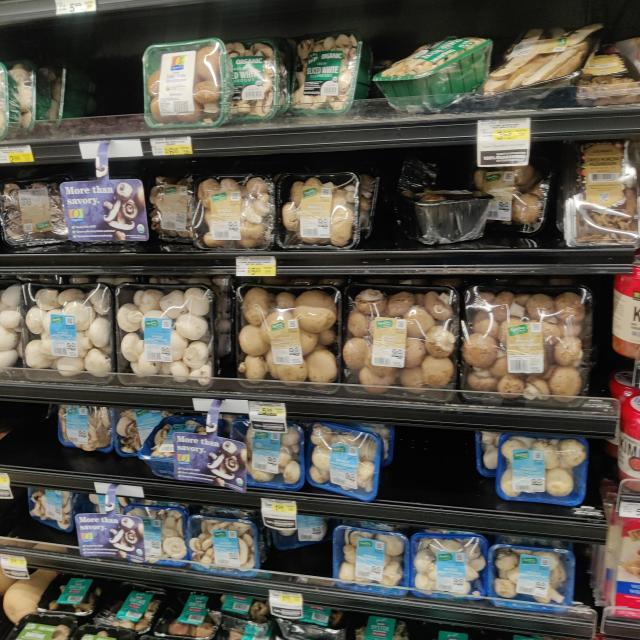Mushrooms: (465, 278, 592, 406), (341, 282, 461, 399), (235, 284, 341, 389), (20, 281, 121, 386), (117, 286, 218, 388), (378, 30, 496, 106), (144, 38, 233, 126), (496, 432, 590, 506), (290, 34, 378, 110), (485, 546, 572, 616), (306, 421, 382, 501), (410, 530, 492, 602), (334, 523, 411, 599), (220, 39, 291, 118), (282, 177, 362, 246), (238, 421, 313, 489), (200, 180, 278, 242), (124, 504, 188, 571), (194, 515, 262, 573), (58, 400, 119, 458), (25, 477, 80, 531)
